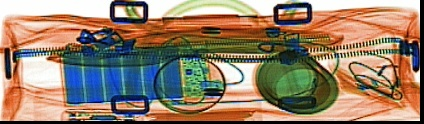powerbank: (58, 37, 214, 107)
